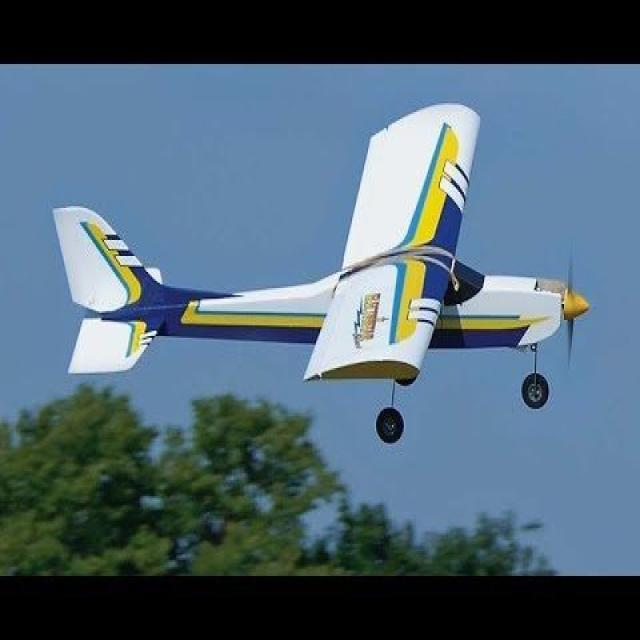iha: (49, 98, 589, 444)
